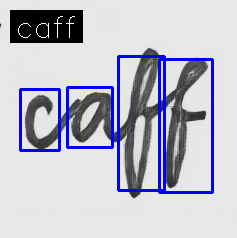a: (68, 89, 115, 144)
c: (21, 92, 56, 153)
f: (164, 56, 210, 190), (121, 46, 161, 199)
